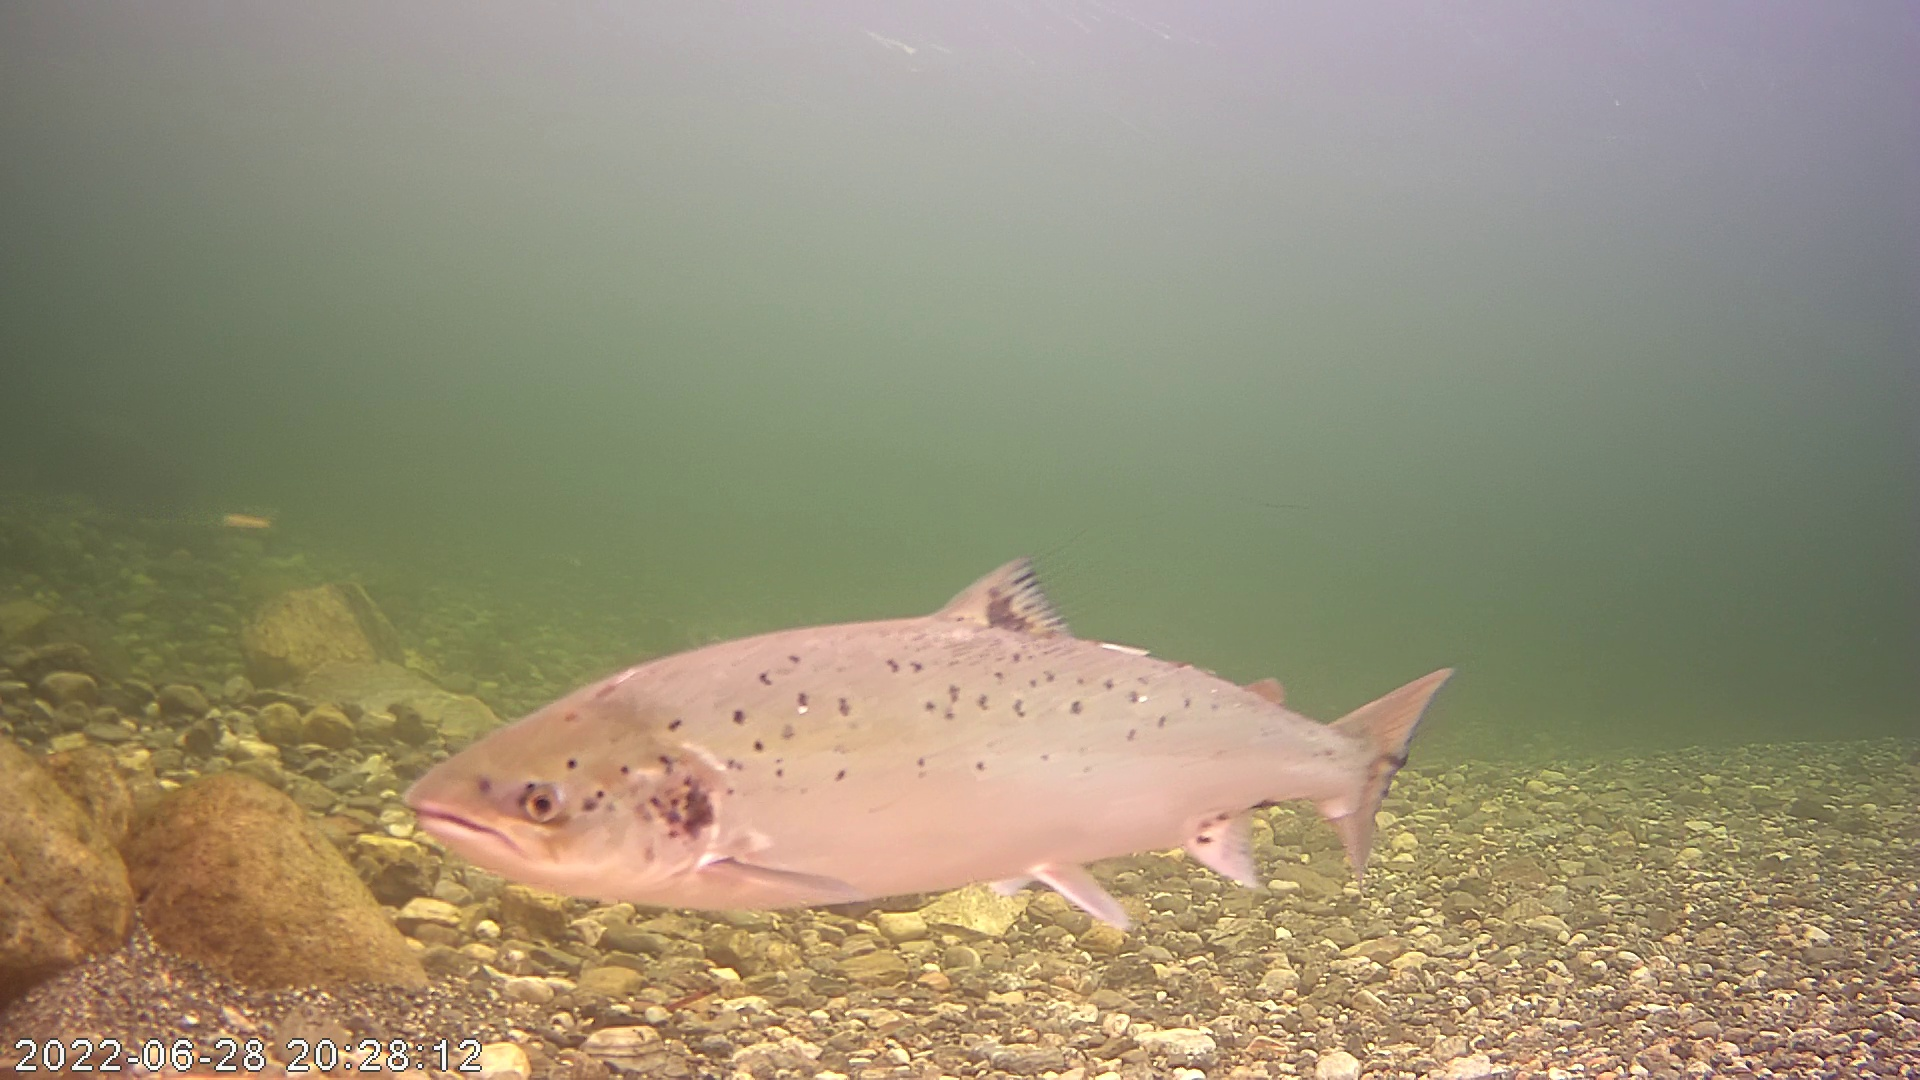salmon: (390, 533, 1448, 928)
